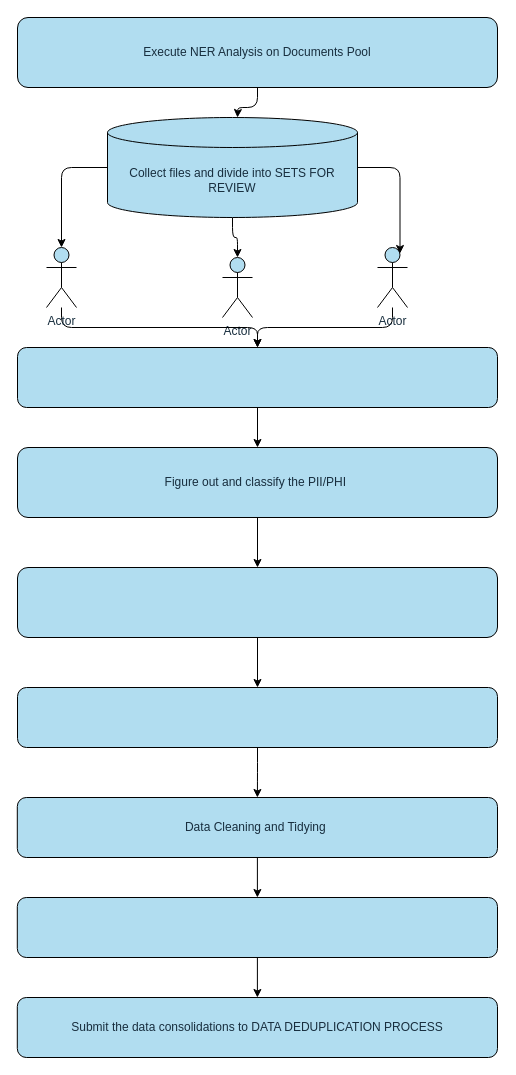
The diagram is 516 pixels wide and 1075 high, and some of its shapes have lost their labels. Here are the shapes that lost their labels. From the top down, the box of each, then its label:
(16, 346, 498, 408): Start Reviewing the documents
(16, 566, 498, 638): Extract the information from PII/PHI Columns
(16, 686, 498, 748): Consolidate the gathered PII/PHI DATA
(16, 896, 498, 958): Enter the data into Project Template
